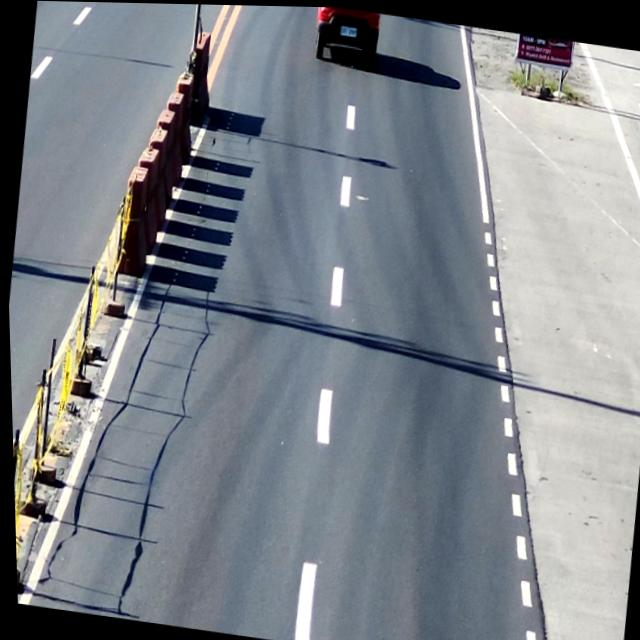Car: (311, 5, 387, 63)
License-Plate: (336, 21, 359, 35)
